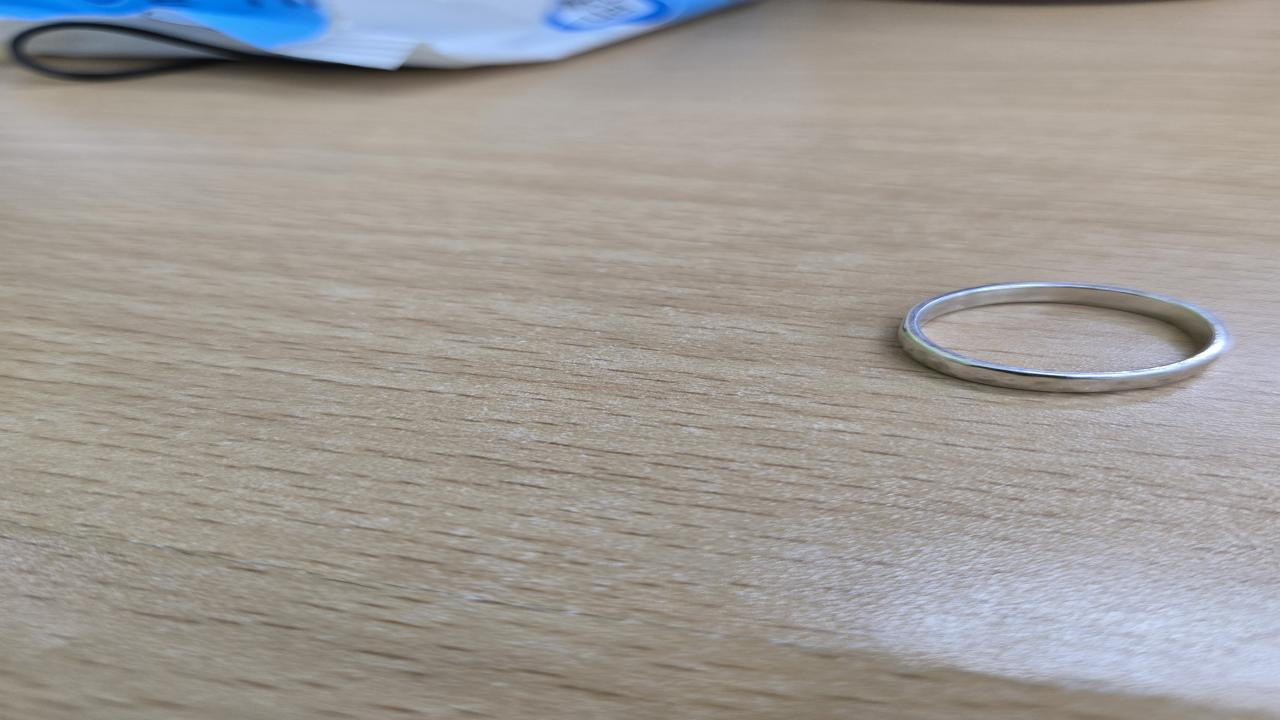ring: (897, 282, 1229, 394)
